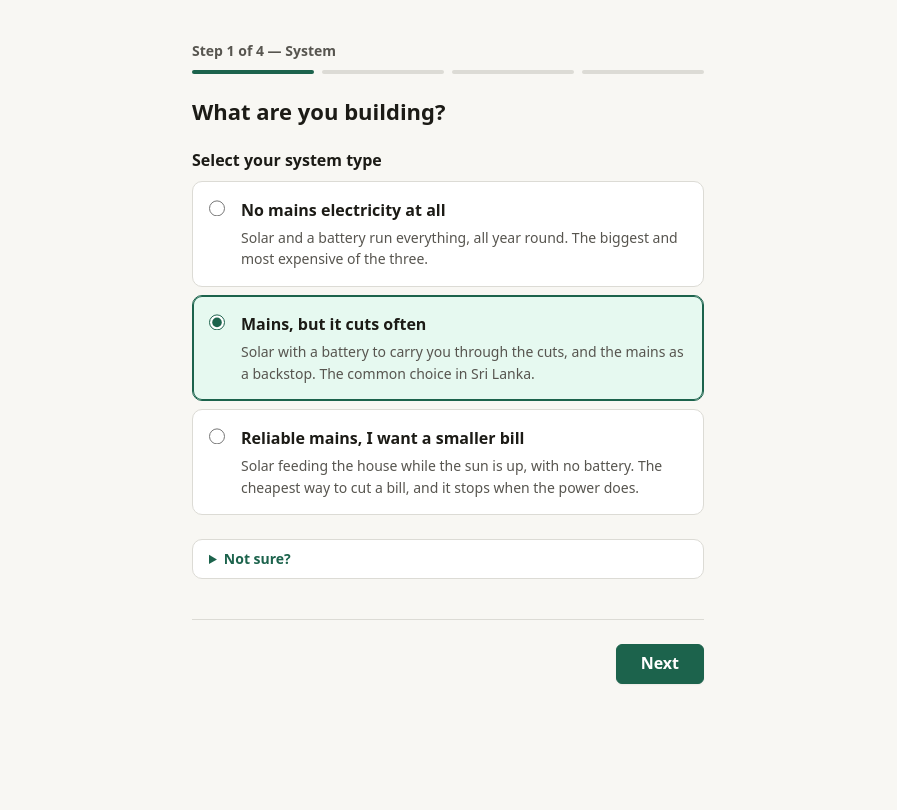
Test: Wizard › walks forward to results and back again
Click the button "Next".
click(660, 664)  # box top-left (616, 644), bottom-right (704, 684)
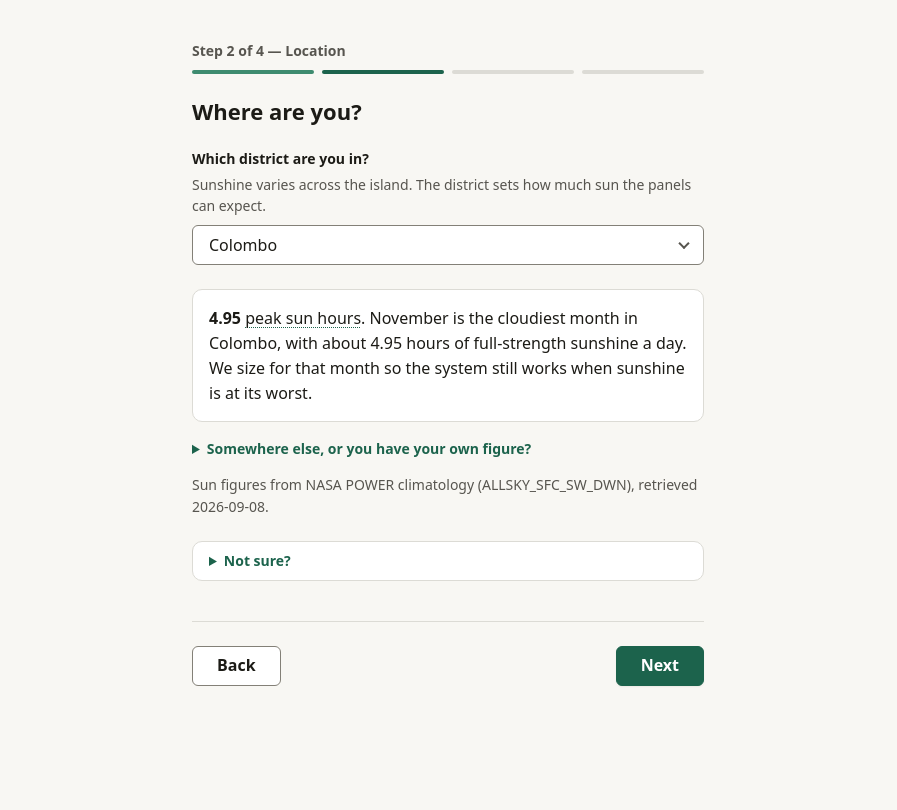
Click the button "Next".
click(660, 666)  # box top-left (616, 646), bottom-right (704, 686)
(page scrolled)
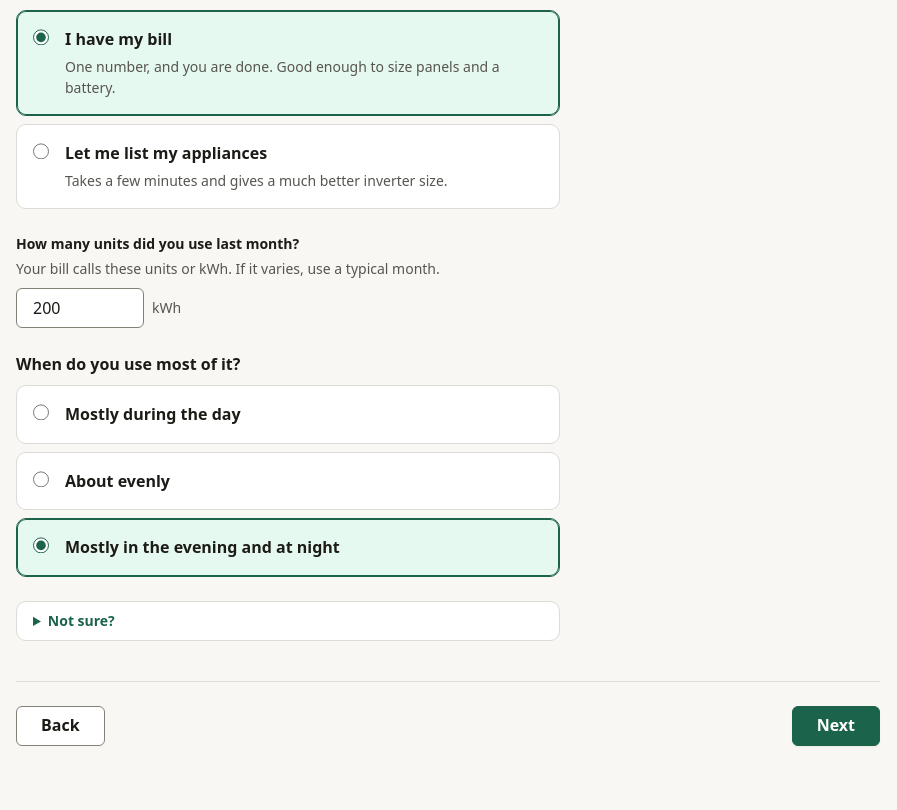
Click the button "Next".
click(836, 726)  # box top-left (792, 706), bottom-right (880, 746)
(page scrolled)
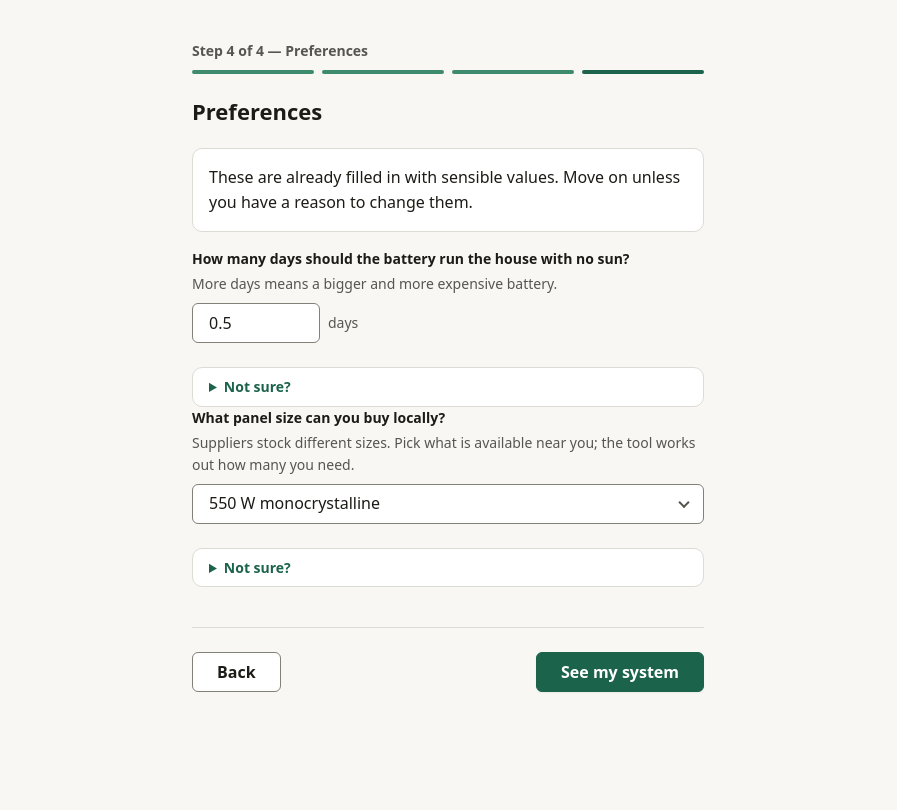
Expected: the button "See my system" is shown, top-left (536, 652), bottom-right (704, 692)
Click the button "Back".
click(236, 672)  # box top-left (192, 652), bottom-right (281, 692)
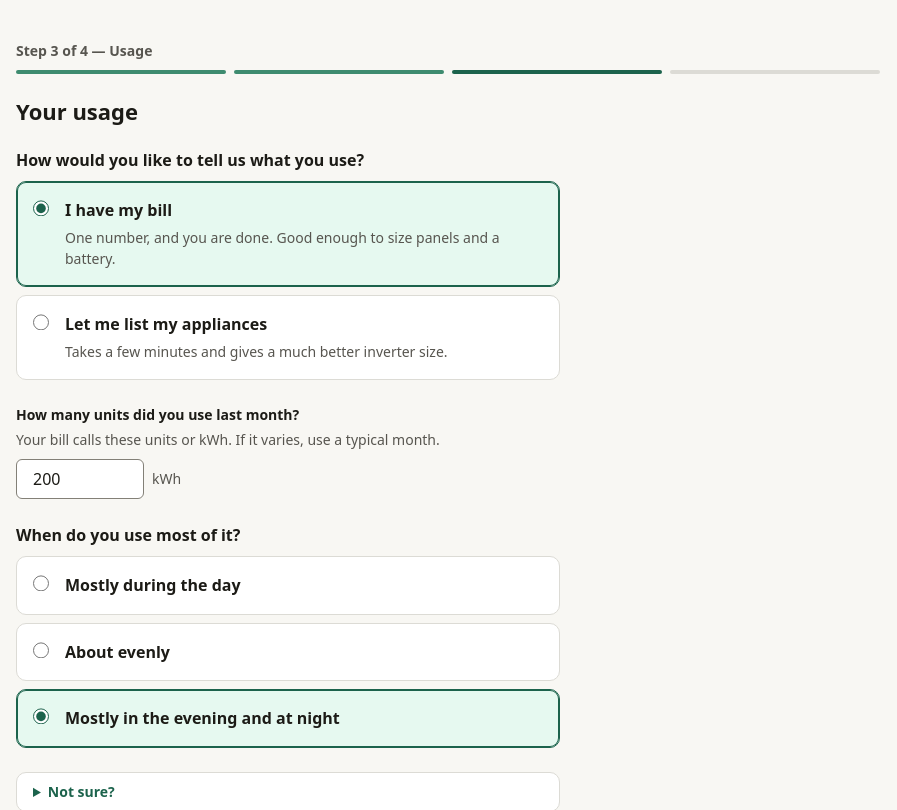
Expected: the heading "Your usage" is shown, top-left (16, 96), bottom-right (138, 126)
